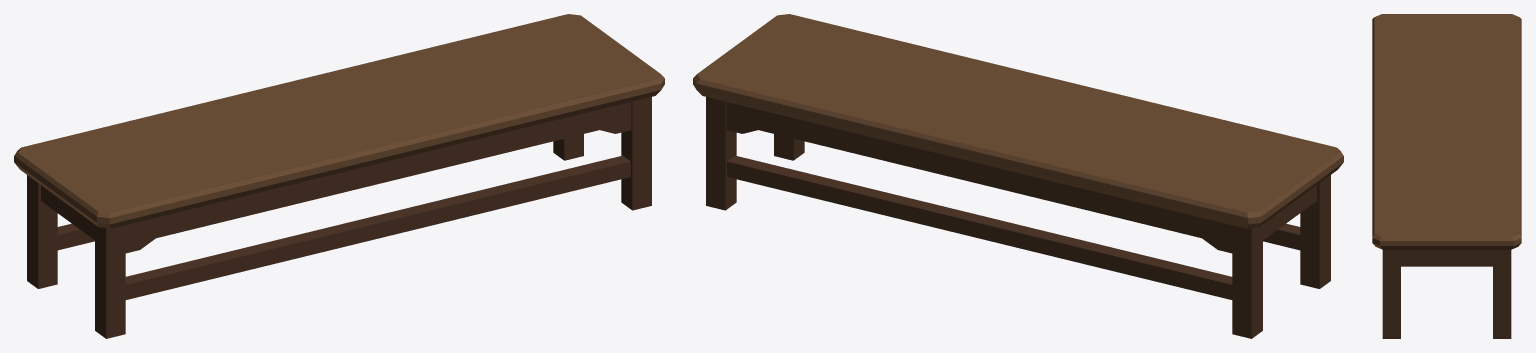
File: fn_table.glb
3 renders of one model, left to right at view 1: azimuth 30°, elevation 25°; view 2: azimuth 150°, elevation 25°; view 3: azimuth 270°, elevation 25°, orthographic. The views are drawn at different scales.
Visible parts, largest first — view 1: fn_table__plank, fn_table__wood_dark; view 2: fn_table__plank, fn_table__wood_dark; view 3: fn_table__plank, fn_table__wood_dark.
Part boxes in pixels (box(x1,y1,x2,y2)): fn_table__plank: box(14, 14, 664, 228); fn_table__wood_dark: box(27, 97, 651, 338); fn_table__plank: box(693, 14, 1343, 228); fn_table__wood_dark: box(706, 97, 1330, 338); fn_table__plank: box(1372, 14, 1521, 249); fn_table__wood_dark: box(1382, 250, 1511, 338).
Bounding box in the file's own units: 32 × 7 × 9.
